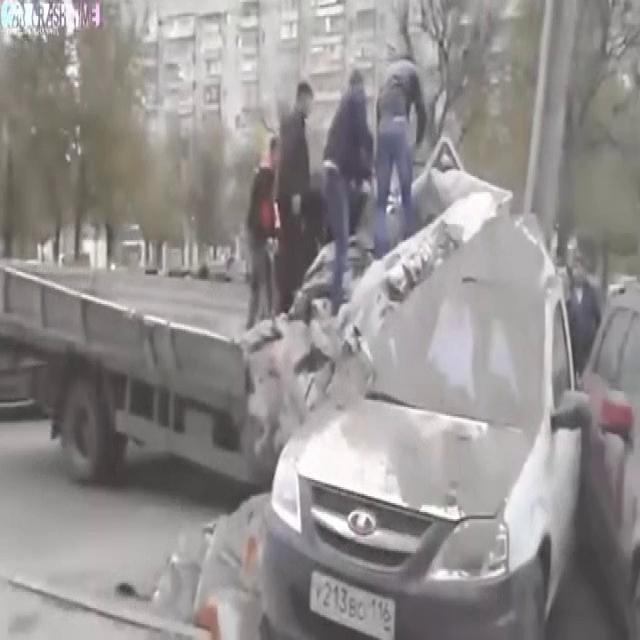accident: (224, 220, 482, 585)
